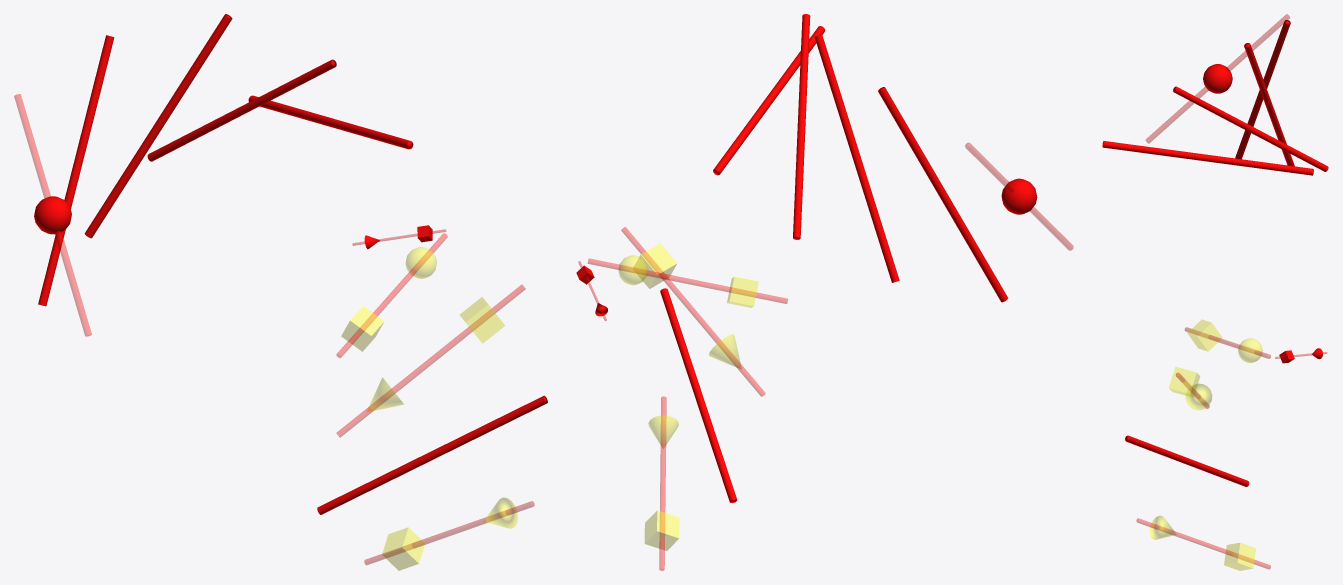
File: candidate.gltf
The picture shows the model from 3 angles, left to right: view 1: azimuth 30°, elevation 25°; view 2: azimuth 150°, elevation 25°; view 3: azimuth 270°, elevation 25°; orthographic projection. The views are drawn at different scales.
Size of the model in its own units: 26.88 by 33.1 by 14.51.
